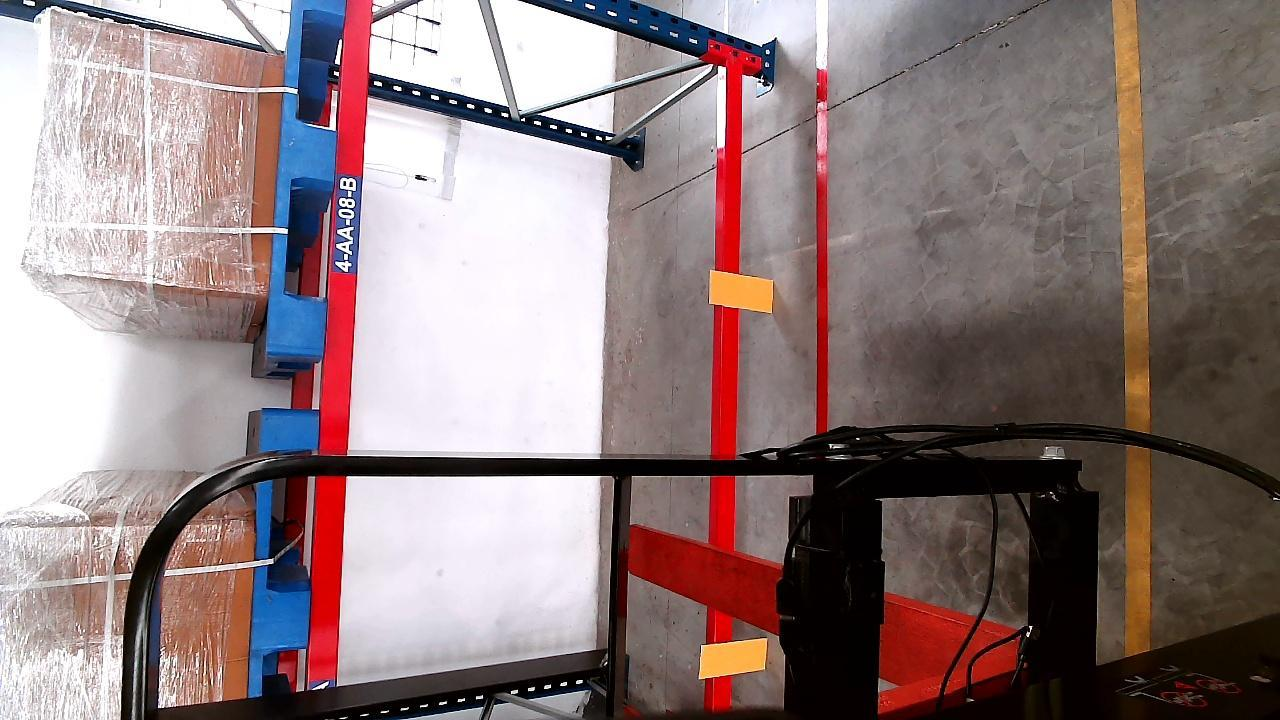red_line: (814, 31, 834, 434)
yellow_line: (1118, 0, 1158, 655)
